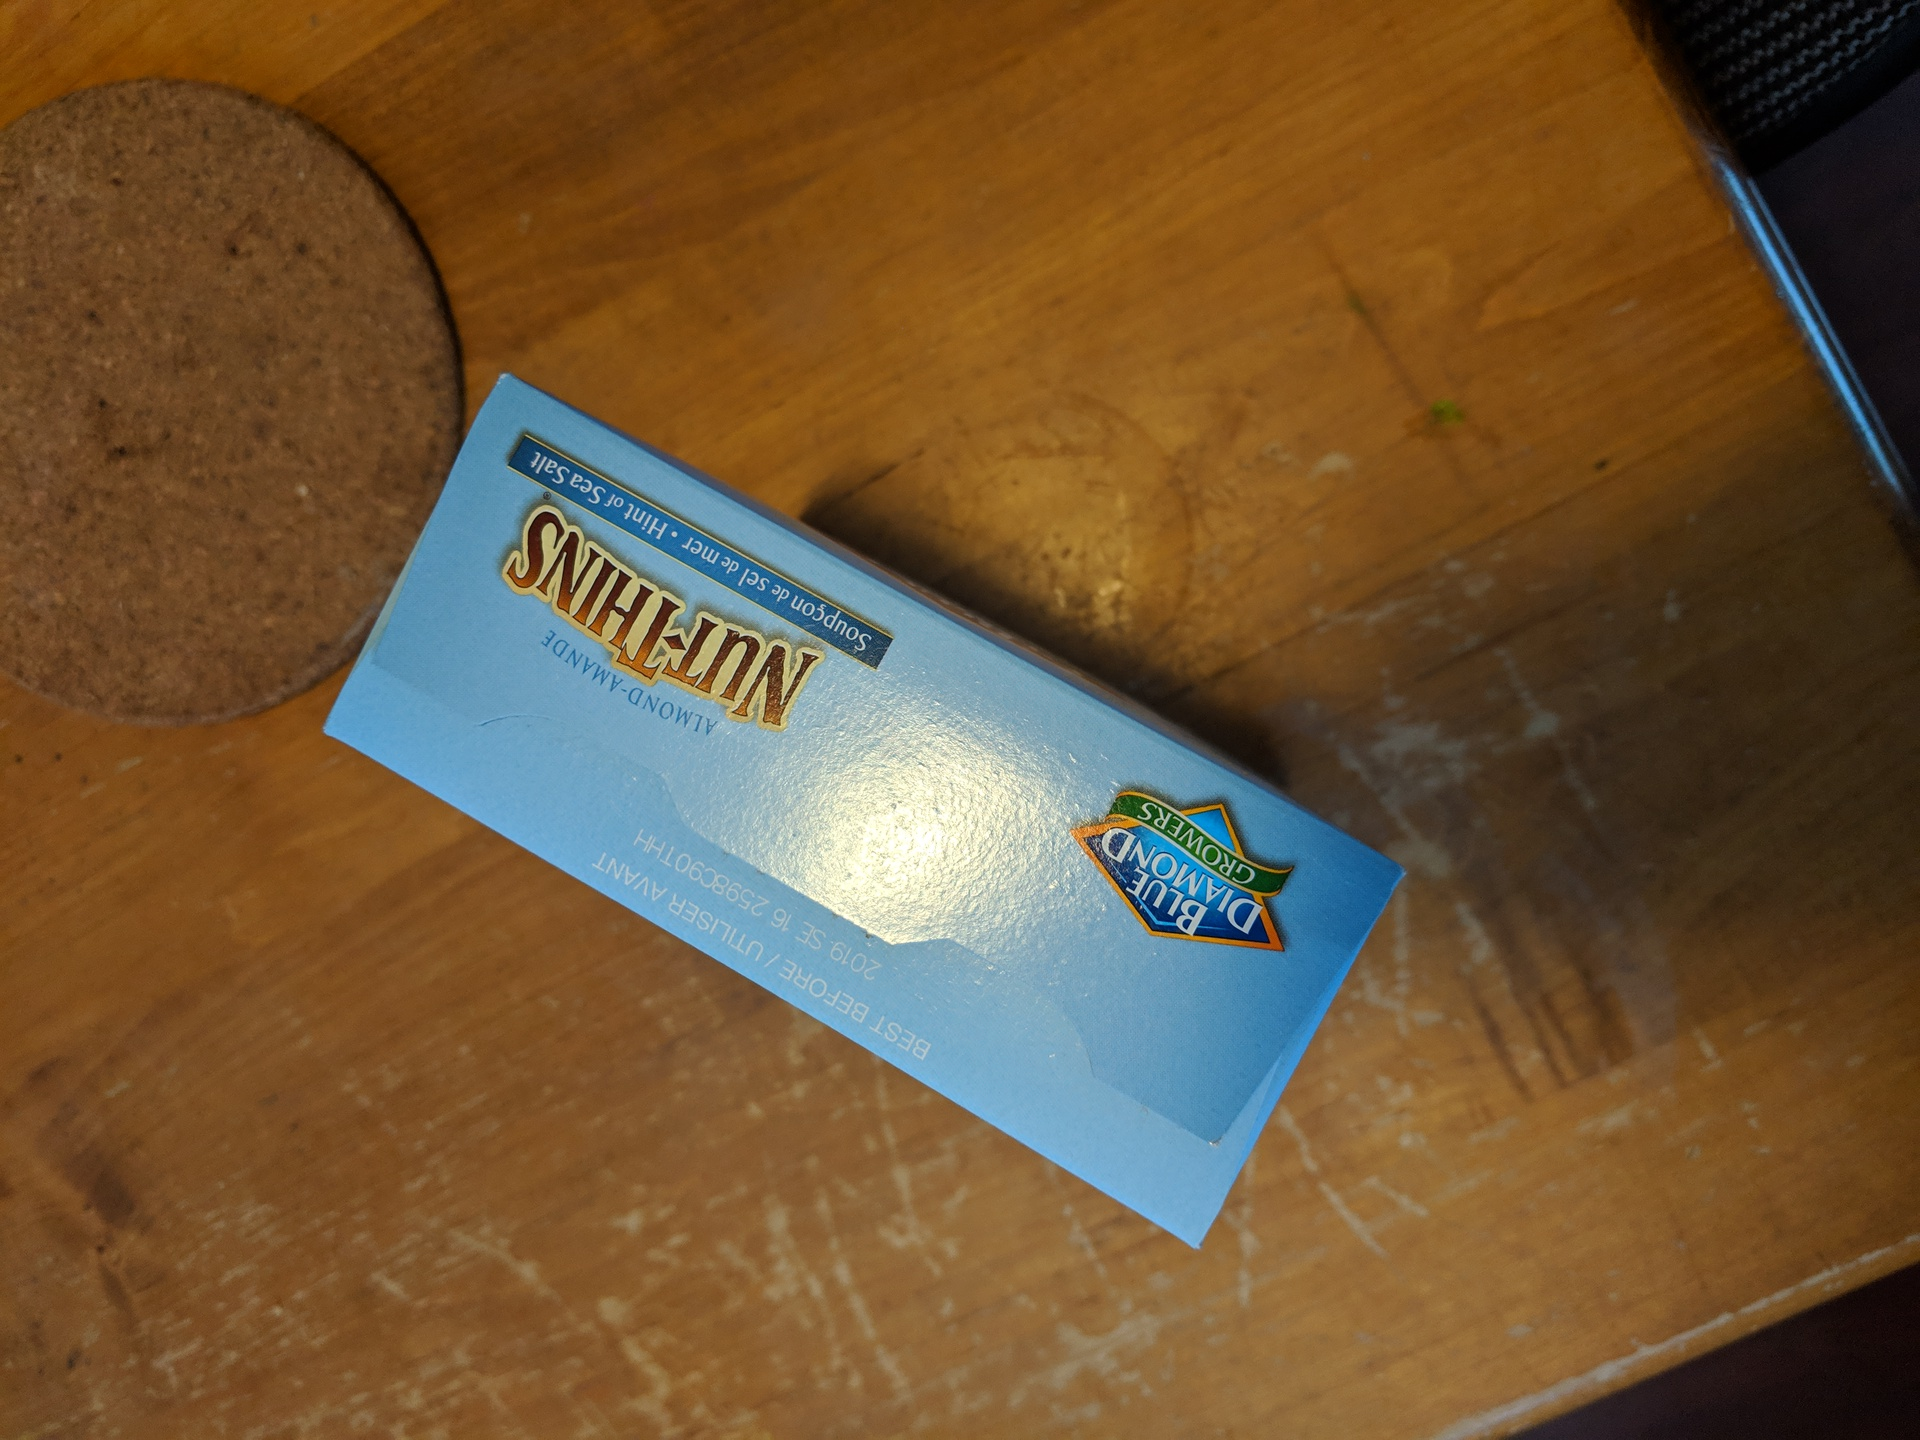blue_diamond_nut_thins_almond_seasalt: (410, 498, 1333, 1156)
